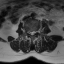CCS_stenosis: (31, 28, 33, 37)
LFS_normal: (35, 28, 38, 35)
LLS_normal: (33, 28, 35, 36)
RFS_normal: (27, 28, 29, 35)
RLS_normal: (29, 28, 31, 36)
